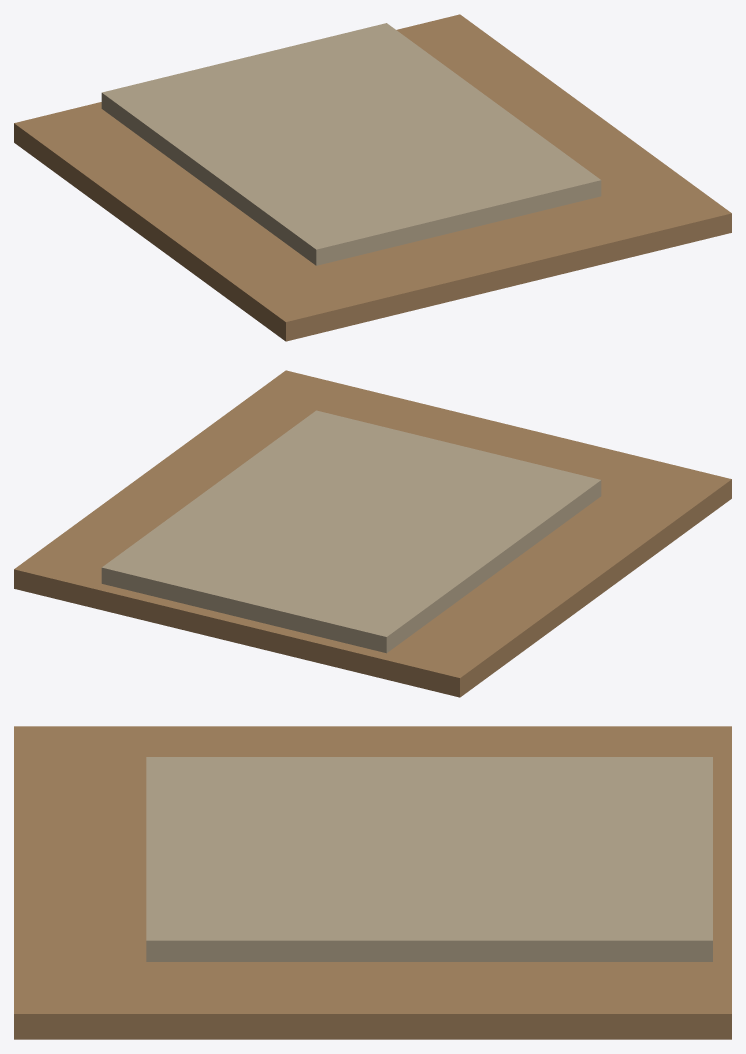
3 renders of one model, top to bottom at view 1: azimuth 30°, elevation 25°; view 2: azimuth 150°, elevation 25°; view 3: azimuth 270°, elevation 25°, orthographic. The views are drawn at different scales.
Visible parts, largest first — view 1: base; view 2: base; view 3: base.
Boxes of the visible parts, x1,y1,x2,y2 form: base: (14,14,731,341); base: (14,370,731,697); base: (14,726,731,1039).
Size of the model in its own units: 7.2 by 0.55 by 7.6.
